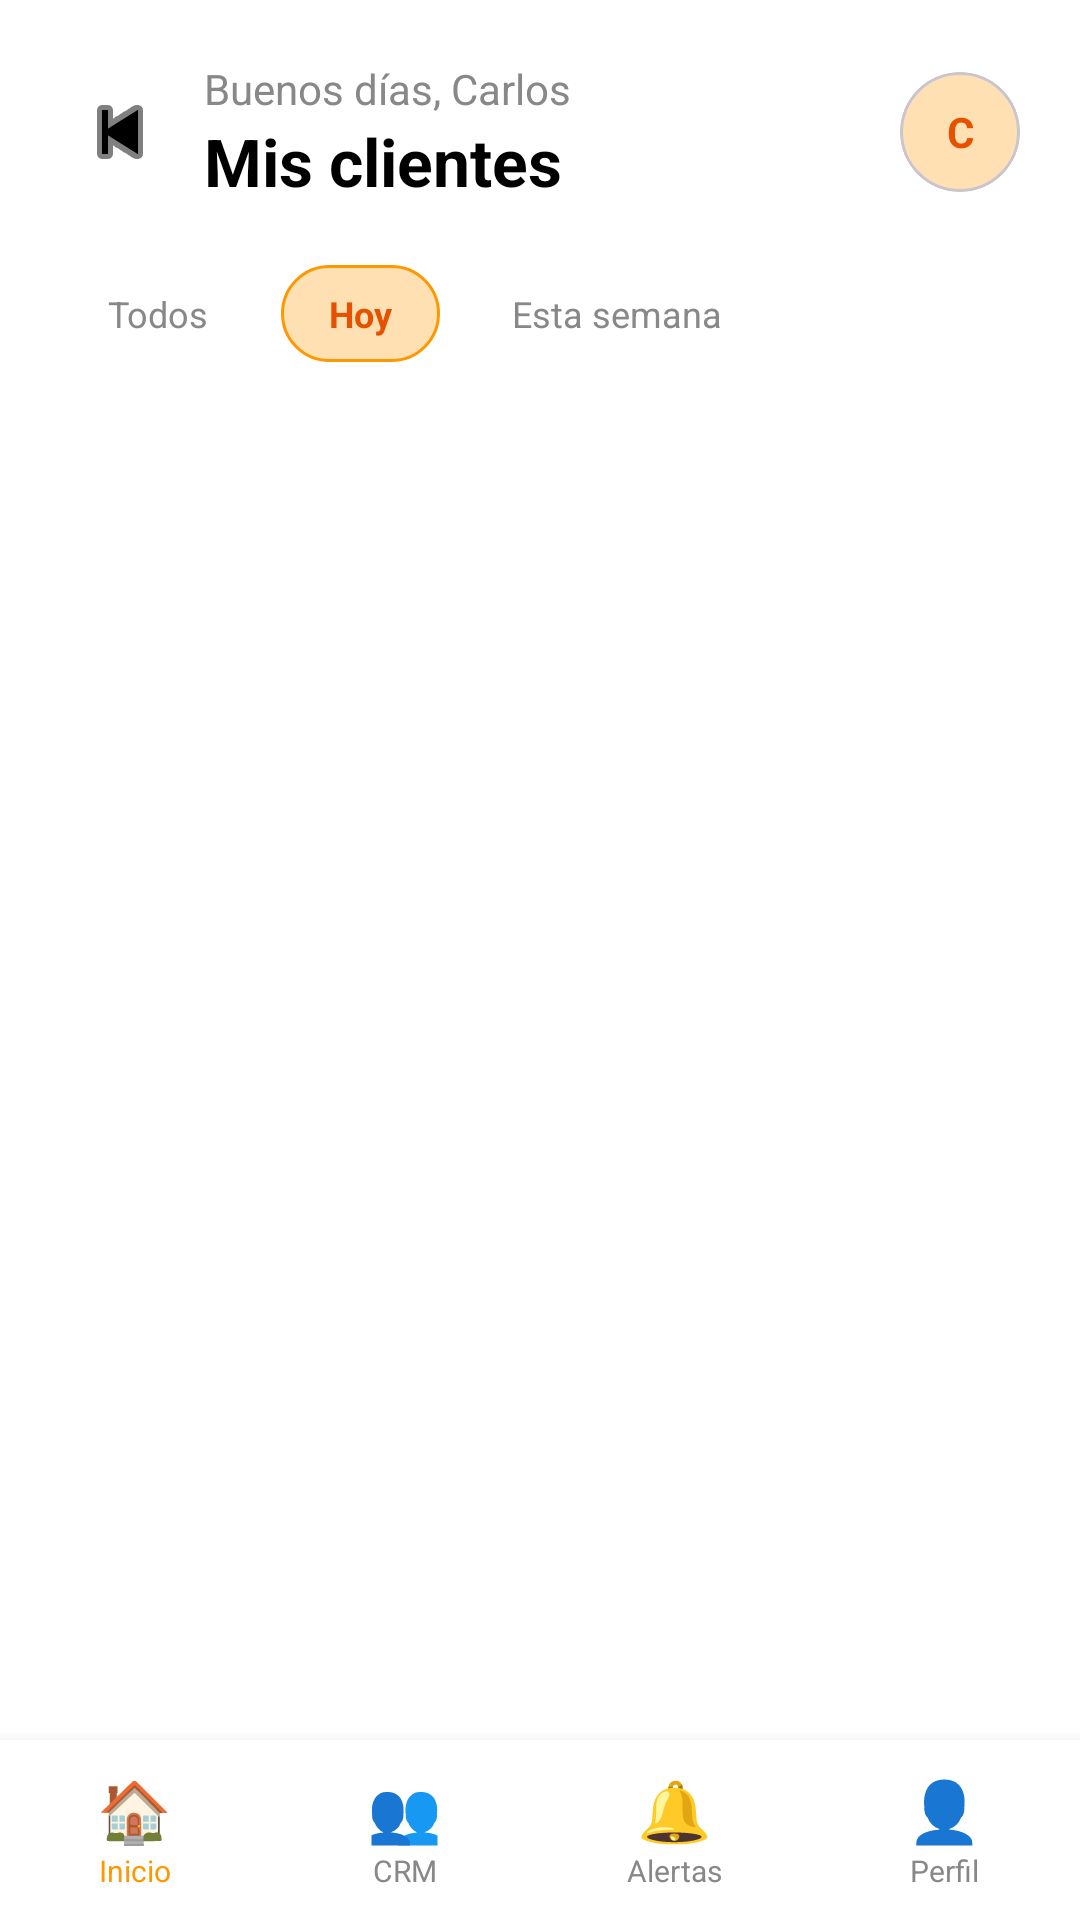

Locate icon controls on the screen. Image size 1080*1920, boxes as (x1, y1, x2, y2).
previous: (97, 105, 143, 159)
